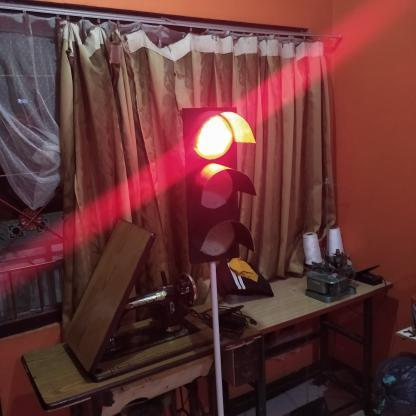red: (182, 110, 254, 262)
